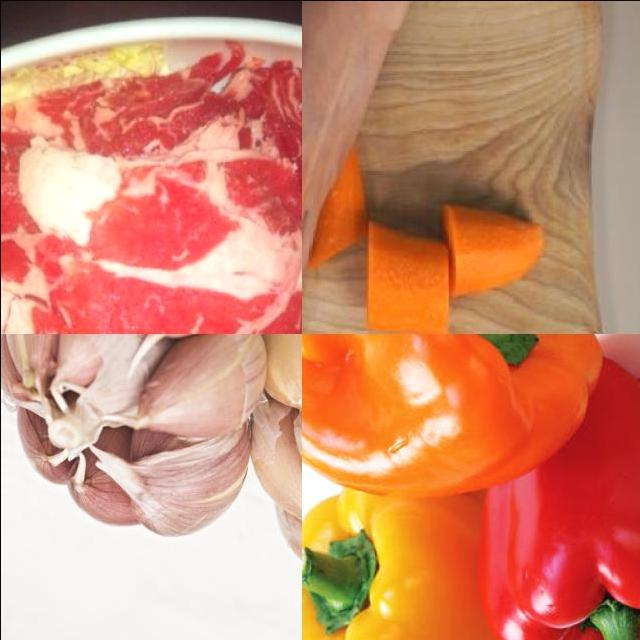bell_pepper: (302, 334, 599, 497), (483, 368, 640, 640), (302, 476, 521, 640)
carrot: (448, 196, 546, 298), (364, 226, 453, 334)
garlic: (1, 334, 254, 536)
